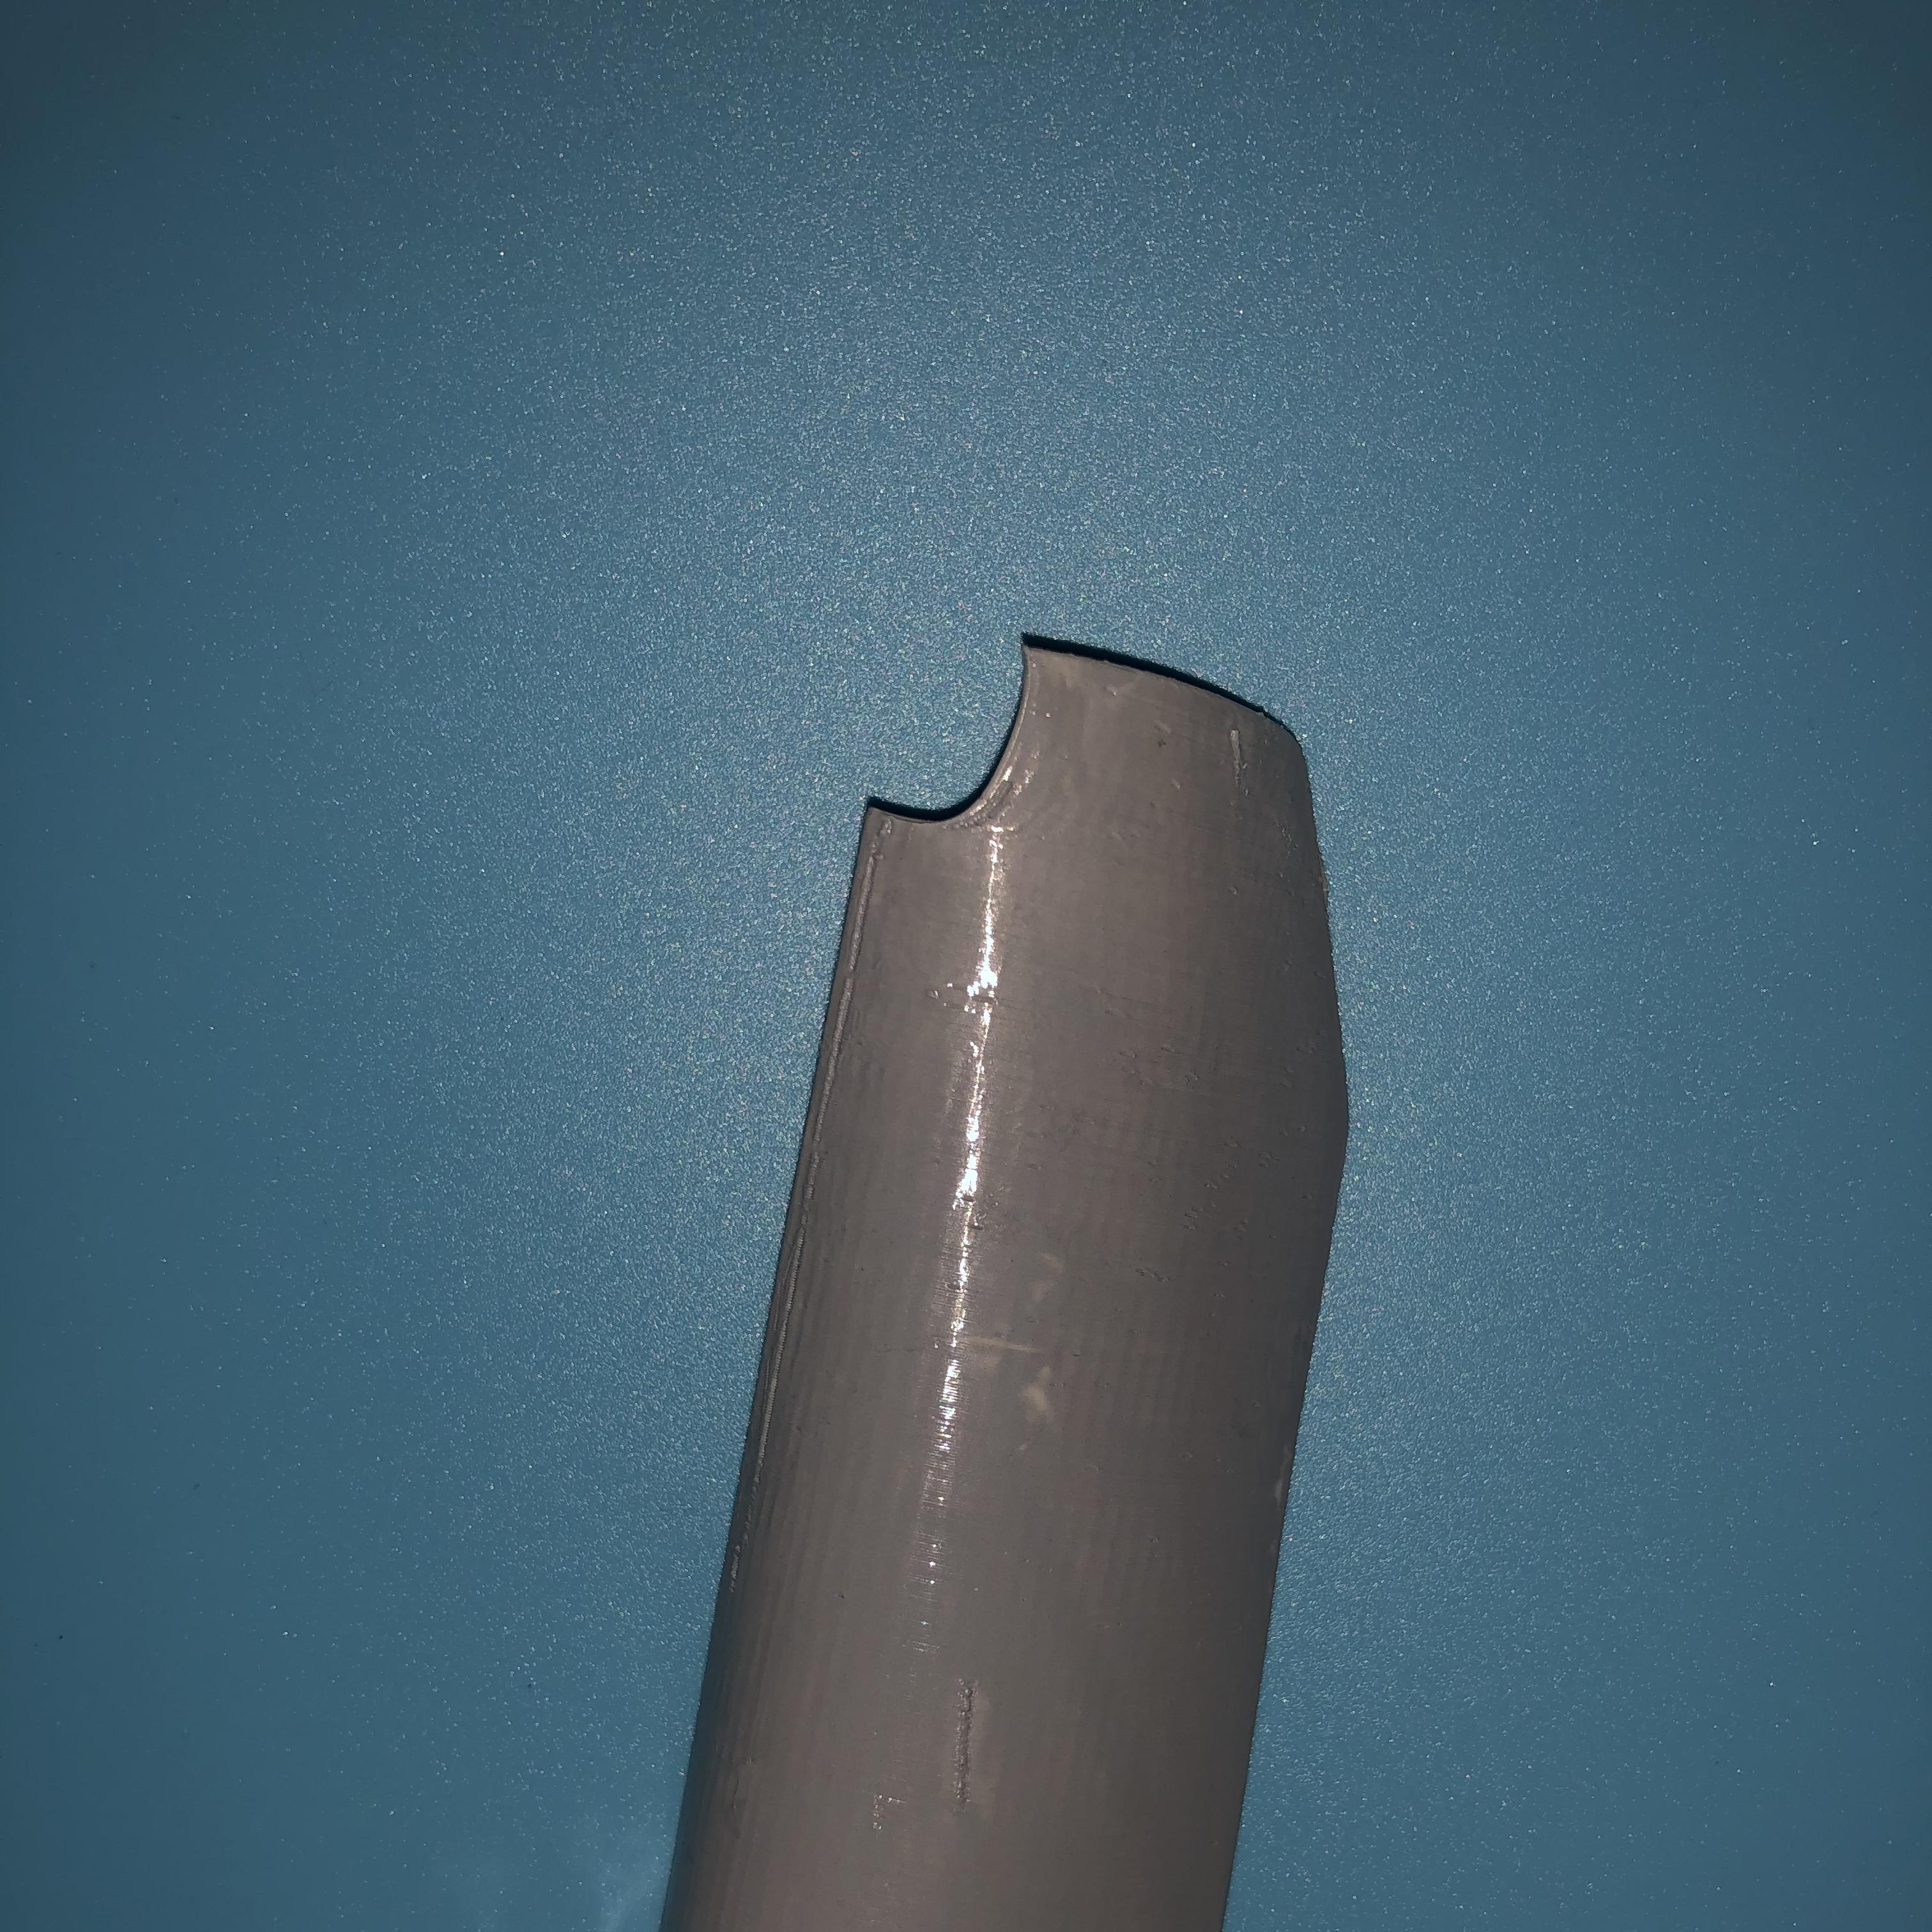fracture: (851, 667, 1053, 847)
